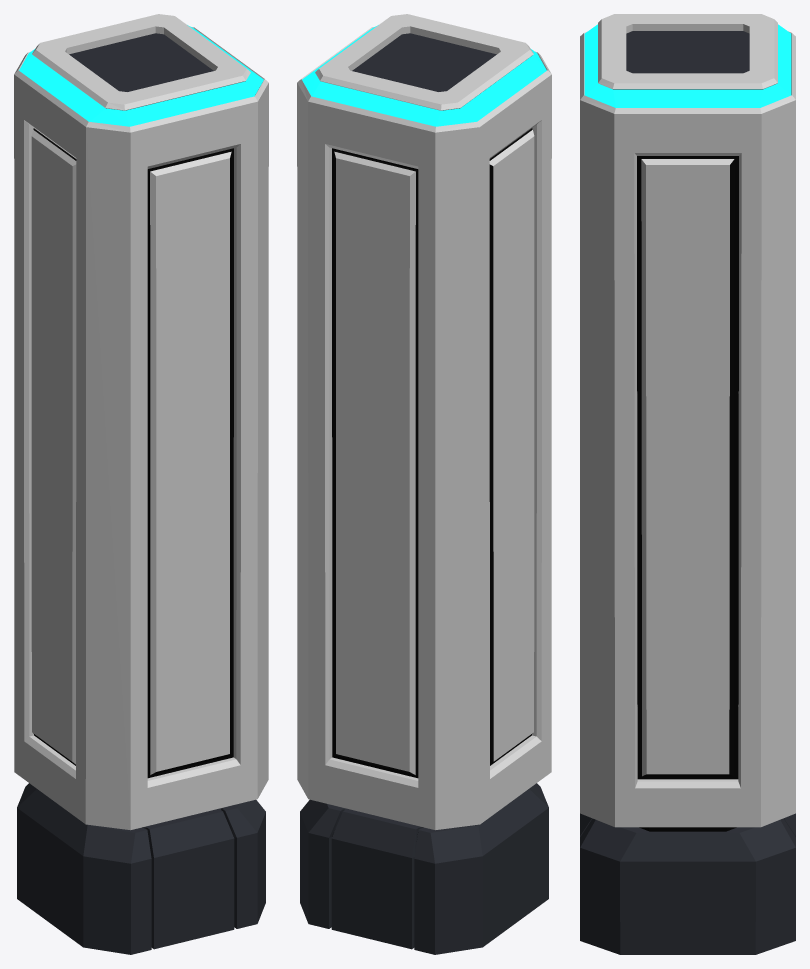
File: SM_Pillar_1m.fbx
3 views of the same model, side by side, from view 1: azimuth 30°, elevation 25°; view 2: azimuth 150°, elevation 25°; view 3: azimuth 270°, elevation 25° (orthographic). The views are drawn at different scales.
Parts seen in each view (by area): view 1: SM_Pillar_1m; view 2: SM_Pillar_1m; view 3: SM_Pillar_1m.
Boxes of the visible parts, <box> form: SM_Pillar_1m: <box>14,14,268,954</box>; SM_Pillar_1m: <box>297,14,551,954</box>; SM_Pillar_1m: <box>580,14,795,954</box>.
Bounding box in the file's own units: 24 × 106 × 24.
